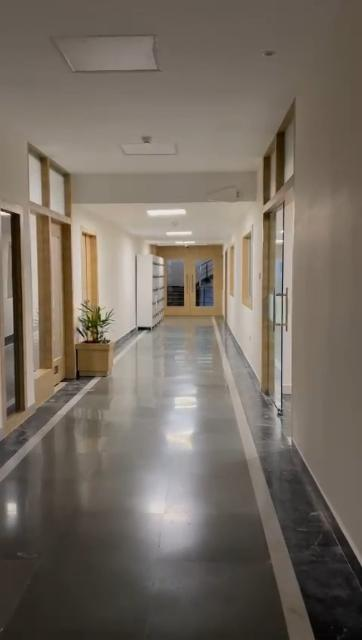door: (30, 152, 72, 386), (261, 121, 295, 405), (166, 248, 224, 314)
floor: (0, 318, 358, 637)
object: (81, 307, 119, 385)
wall: (301, 95, 362, 452), (116, 225, 134, 328), (2, 134, 26, 200), (317, 457, 362, 480), (103, 223, 114, 304), (74, 229, 84, 299), (234, 230, 240, 334), (74, 207, 106, 226), (253, 225, 257, 372), (242, 310, 254, 352), (228, 304, 242, 326)
